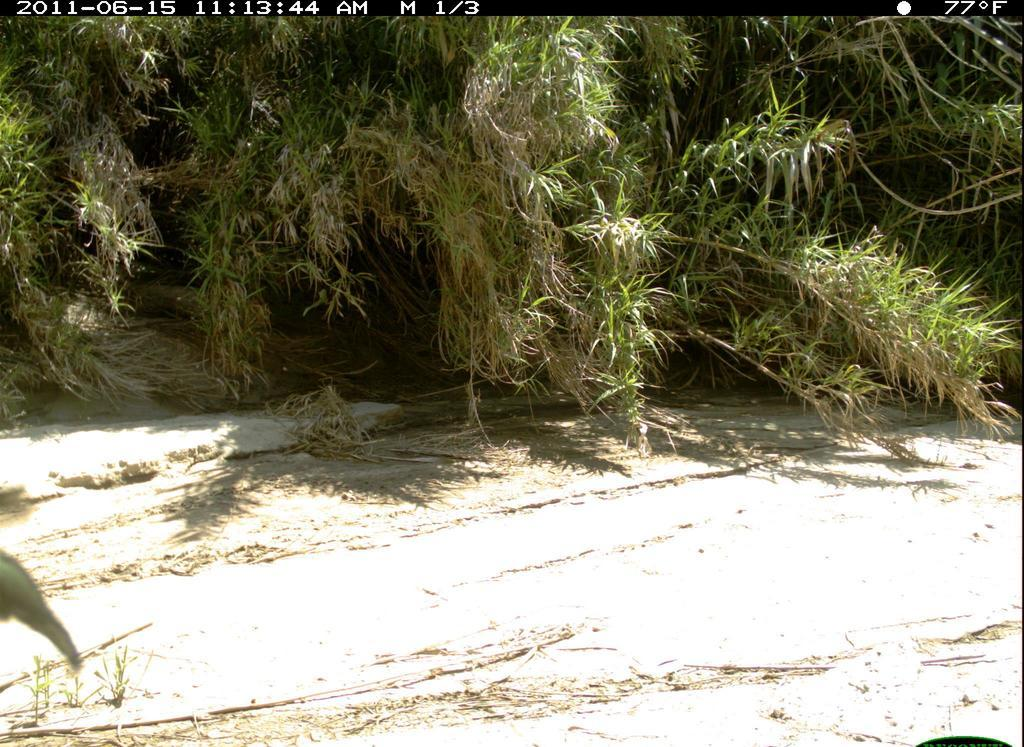bird: (4, 530, 99, 698)
